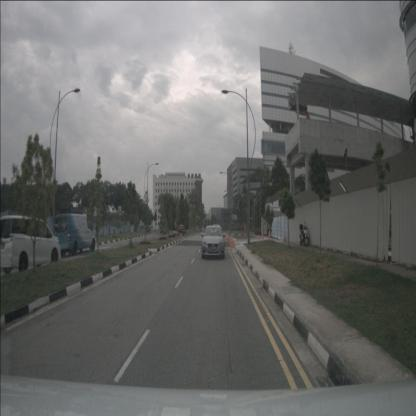cone: (231, 238, 235, 249), (230, 236, 234, 247), (282, 232, 286, 242), (267, 231, 271, 240), (226, 233, 230, 242), (261, 230, 264, 240), (229, 236, 232, 245), (227, 234, 230, 243)
